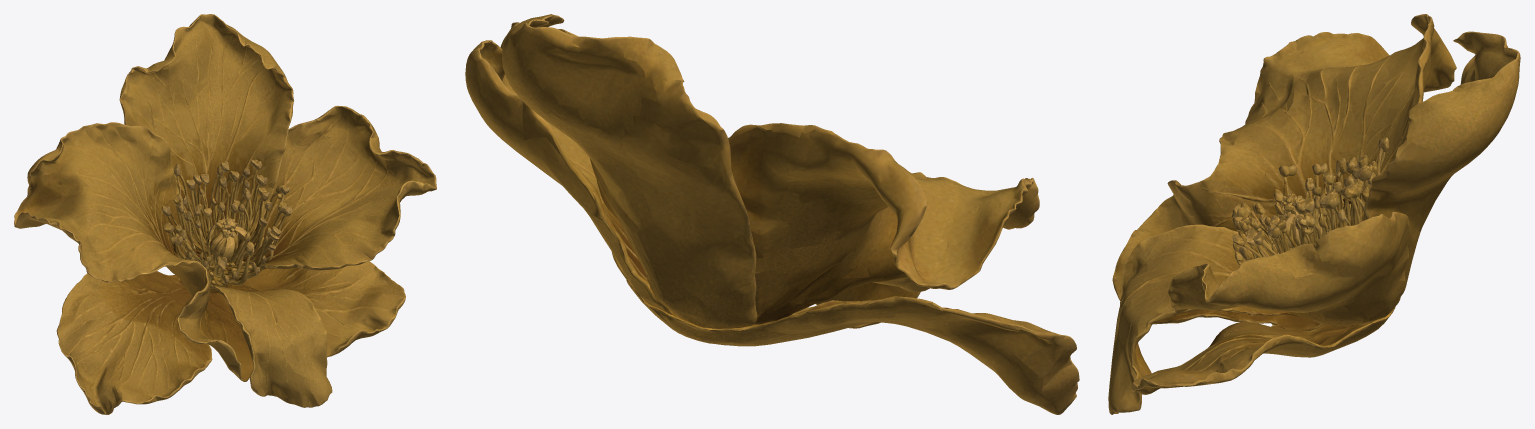
File: gilded-blossom-v2.glb
The picture shows the model from 3 angles, left to right: view 1: azimuth 30°, elevation 25°; view 2: azimuth 150°, elevation 25°; view 3: azimuth 270°, elevation 25°; orthographic projection. The views are drawn at different scales.
Visible parts, largest first — view 1: output_unwrapped; view 2: output_unwrapped; view 3: output_unwrapped.
Part boxes in pixels (x1,y1,x2,y2): output_unwrapped: (14, 14, 436, 414); output_unwrapped: (465, 14, 1079, 414); output_unwrapped: (1108, 14, 1520, 414).
Bounding box in the file's own units: 1.9 × 1.4 × 1.36.
1 material, 1 textured.
